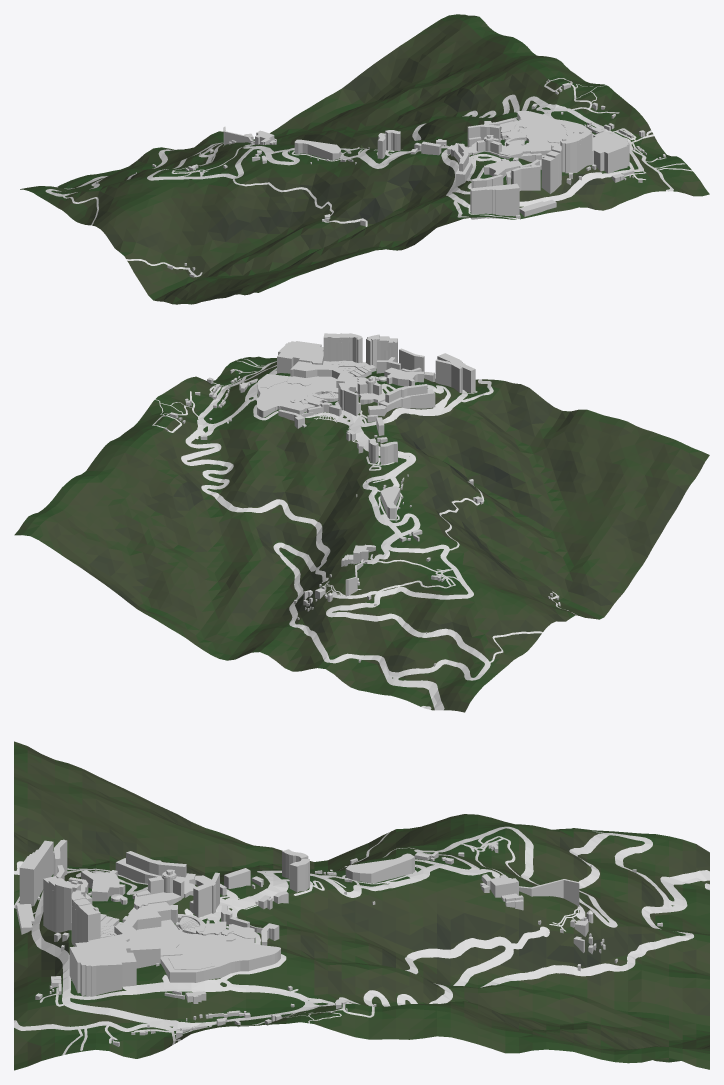
File: custom-scenery.glb
3 views of the same model, one above another, from view 1: azimuth 30°, elevation 25°; view 2: azimuth 150°, elevation 25°; view 3: azimuth 270°, elevation 25° (orthographic). The views are drawn at different scales.
Visible parts, largest first — view 1: tinMesh, buildings, road_collector, road_service, road_local; view 2: tinMesh, buildings, road_collector, road_service, road_local, road_bridge; view 3: tinMesh, buildings, road_collector, road_local, road_service, road_bridge.
Boxes of the visible parts, x1,y1,x2,y2 form: tinMesh: (20, 14, 709, 304); buildings: (96, 79, 665, 277); road_collector: (45, 94, 643, 208); road_service: (62, 78, 692, 277); road_local: (209, 109, 673, 217); tinMesh: (14, 356, 709, 712); buildings: (162, 333, 560, 666); road_collector: (181, 365, 490, 710); road_service: (152, 358, 577, 662); road_local: (208, 361, 493, 598); road_bridge: (249, 370, 415, 564); tinMesh: (14, 741, 709, 1070); buildings: (15, 839, 662, 1046); road_collector: (31, 826, 709, 1030); road_local: (14, 861, 585, 1031); road_service: (14, 831, 603, 1055); road_bridge: (122, 865, 499, 992).
Bounding box in the file's own units: 2121 × 631 × 1995.
